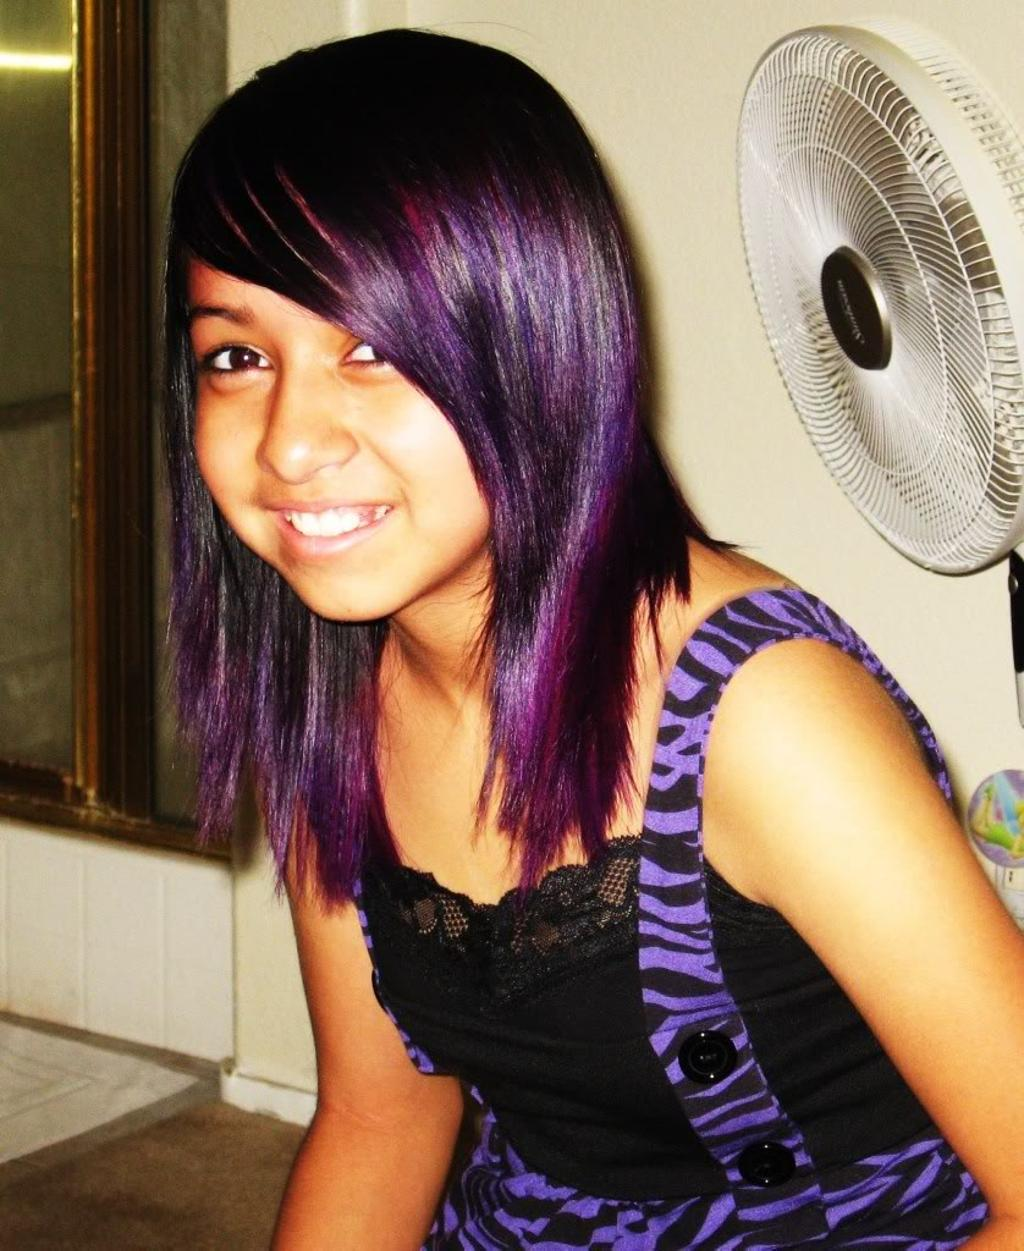face: (196, 205, 536, 618)
